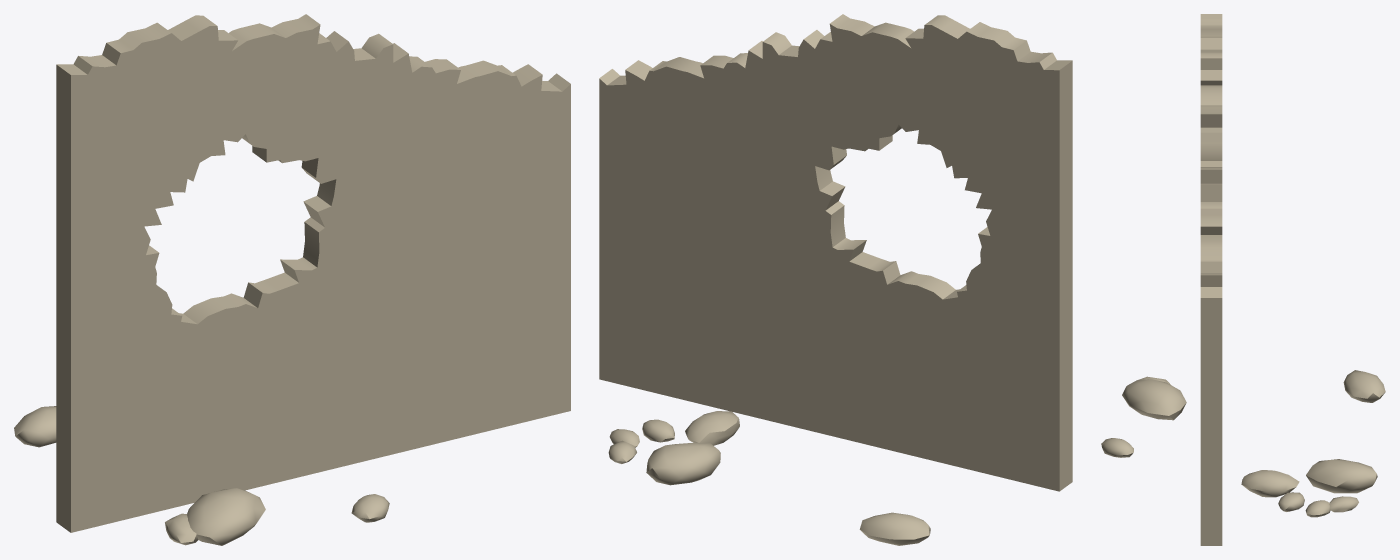
Rendered from wand_kaputt.glb.
3 views of the same model, side by side, from view 1: azimuth 30°, elevation 25°; view 2: azimuth 150°, elevation 25°; view 3: azimuth 270°, elevation 25° (orthographic). The views are drawn at different scales.
Visible parts, largest first — view 1: wand_kaputt; view 2: wand_kaputt; view 3: wand_kaputt.
Part boxes in pixels (<box>): wand_kaputt: <box>14,14,570,545</box>; wand_kaputt: <box>599,14,1072,545</box>; wand_kaputt: <box>1101,14,1385,545</box>.
Bounding box in the file's own units: 2 × 1.86 × 1.3.
